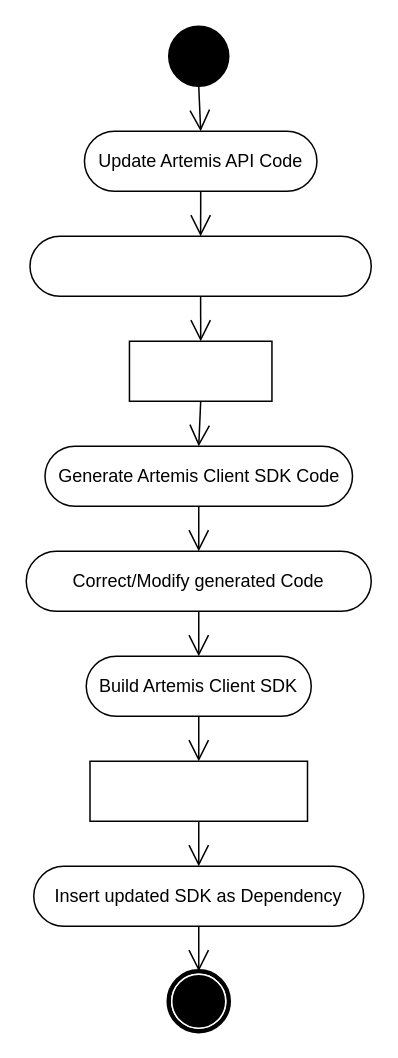
Some shapes in this 398 by 1058 pixel diagram are drawn without their labels. Each missing label, with the centre of its shape:
"artemis-client-sdk-v0.jar" belongs at [198,790].
"Generate new OpenAPI Specification" belongs at [199,265].
"openapi.json" belongs at [200,370].
